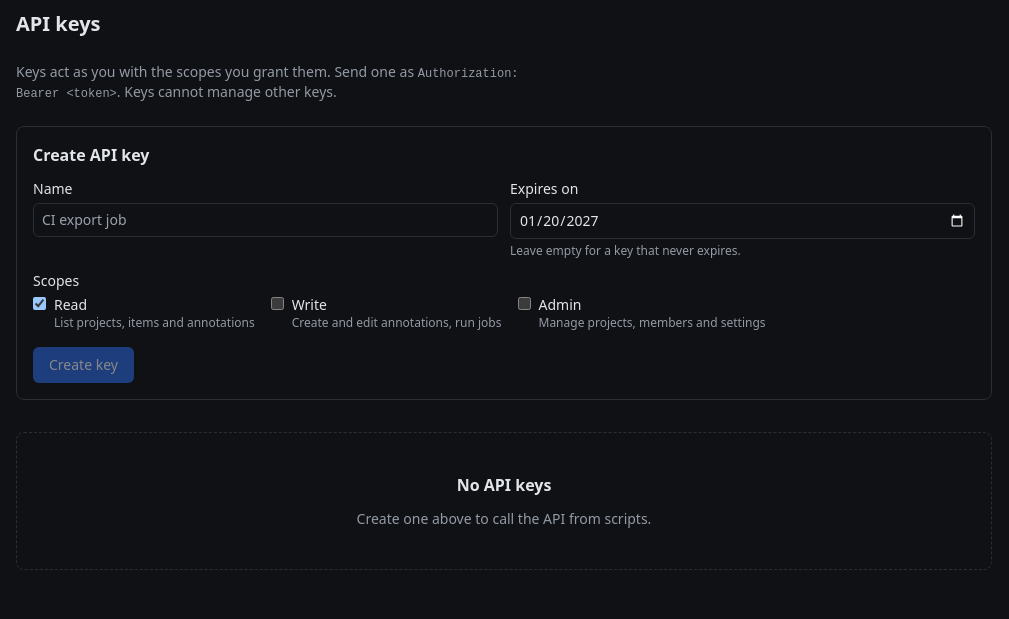
it: ApiKeysPage › surfaces API errors from creation
The image size is (1009, 619).
Expected: the text "No API keys" is shown, [457,473,551,497]
In the field labelled "Name": (266, 220) [33,203,498,237], type "x"
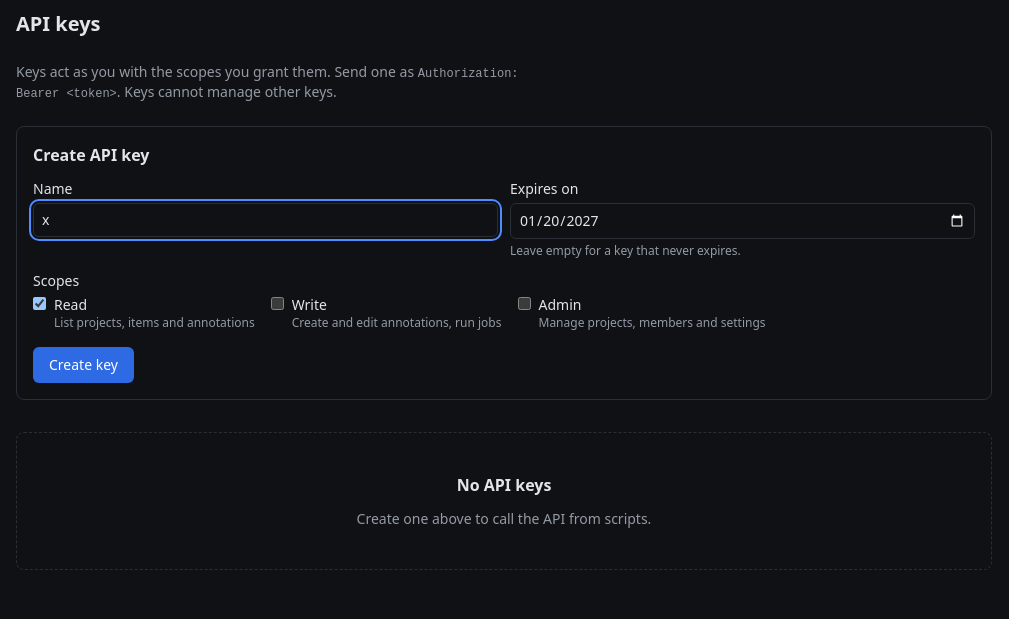
Click the button "Create key": (83, 365) [33,347,134,383]
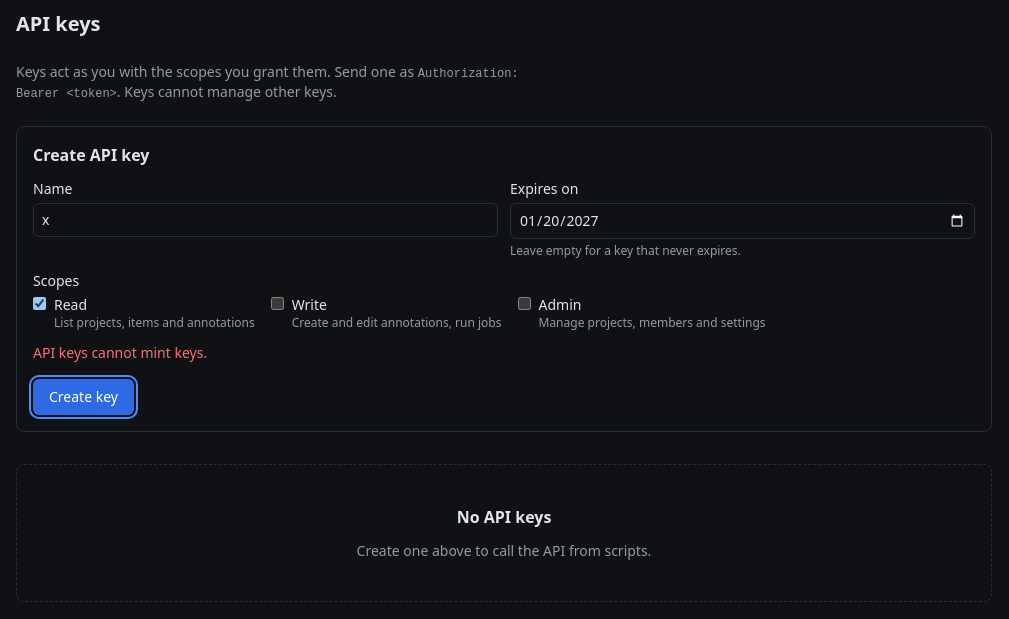
Expected: the message reads "API keys cannot mint keys.", [33,343,207,362]
